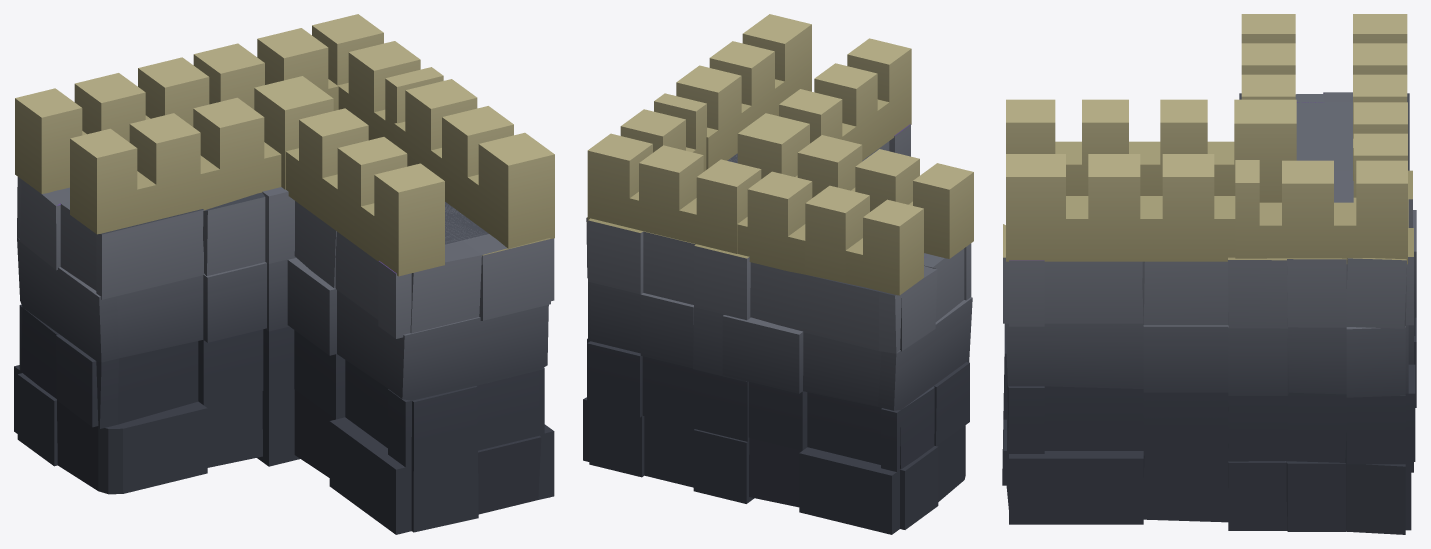
Rendered from Barricade_Classique_AngleDroit.fbx.
The picture shows the model from 3 angles, left to right: view 1: azimuth 30°, elevation 25°; view 2: azimuth 150°, elevation 25°; view 3: azimuth 270°, elevation 25°; orthographic projection. The views are drawn at different scales.
Visible parts, largest first — view 1: Mur_angleDroit.001; view 2: Mur_angleDroit.001; view 3: Mur_angleDroit.001.
Part boxes in pixels (box(x1,y1,x2,y2)): Mur_angleDroit.001: box(14, 14, 554, 534); Mur_angleDroit.001: box(583, 14, 973, 534); Mur_angleDroit.001: box(1002, 14, 1416, 534).
Bounding box in the file's own units: 344 × 327 × 347.
